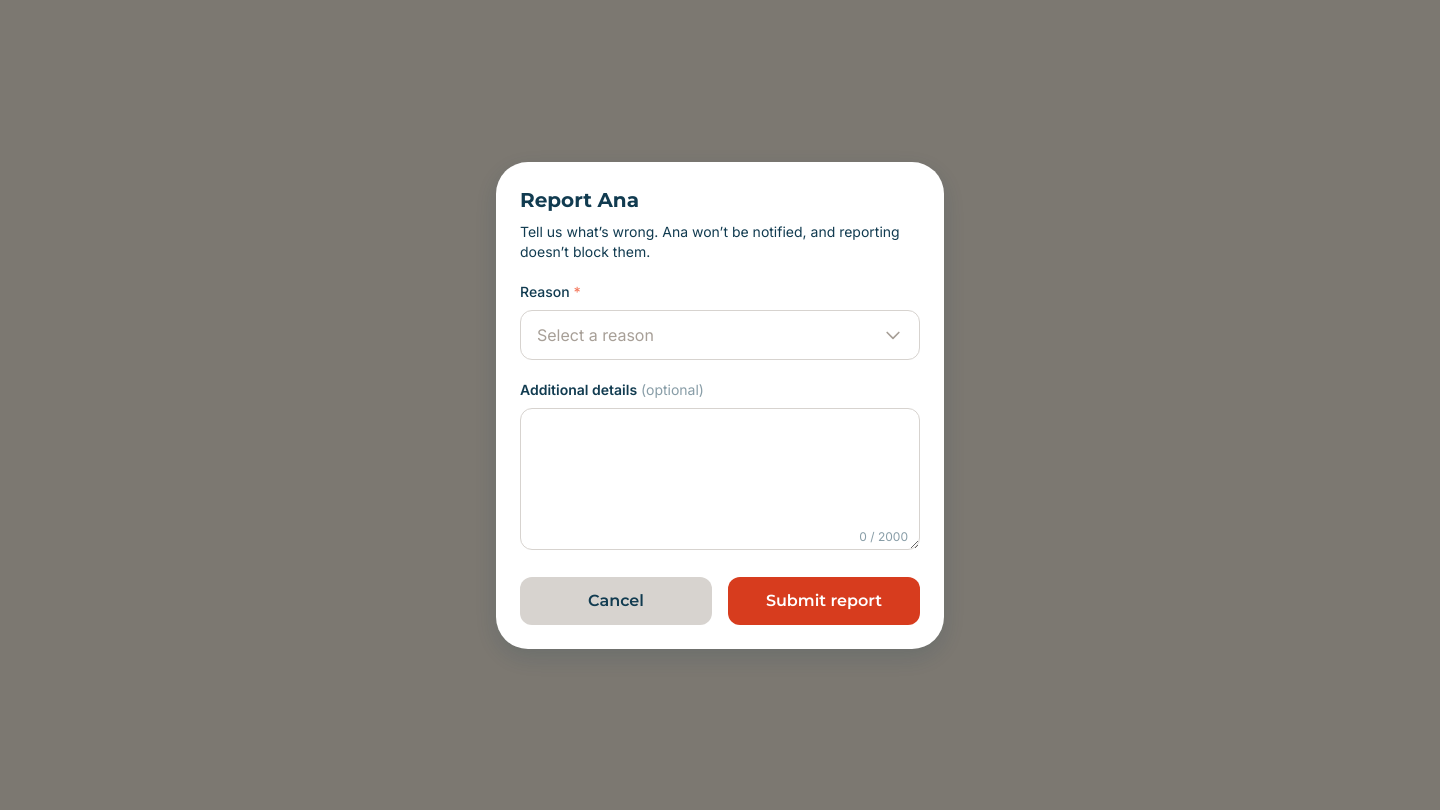
it: ReportUserModal › requires a reason before submitting
The image size is (1440, 810).
Click the button "Submit report" at point(824, 600), box [728,576,920,624]
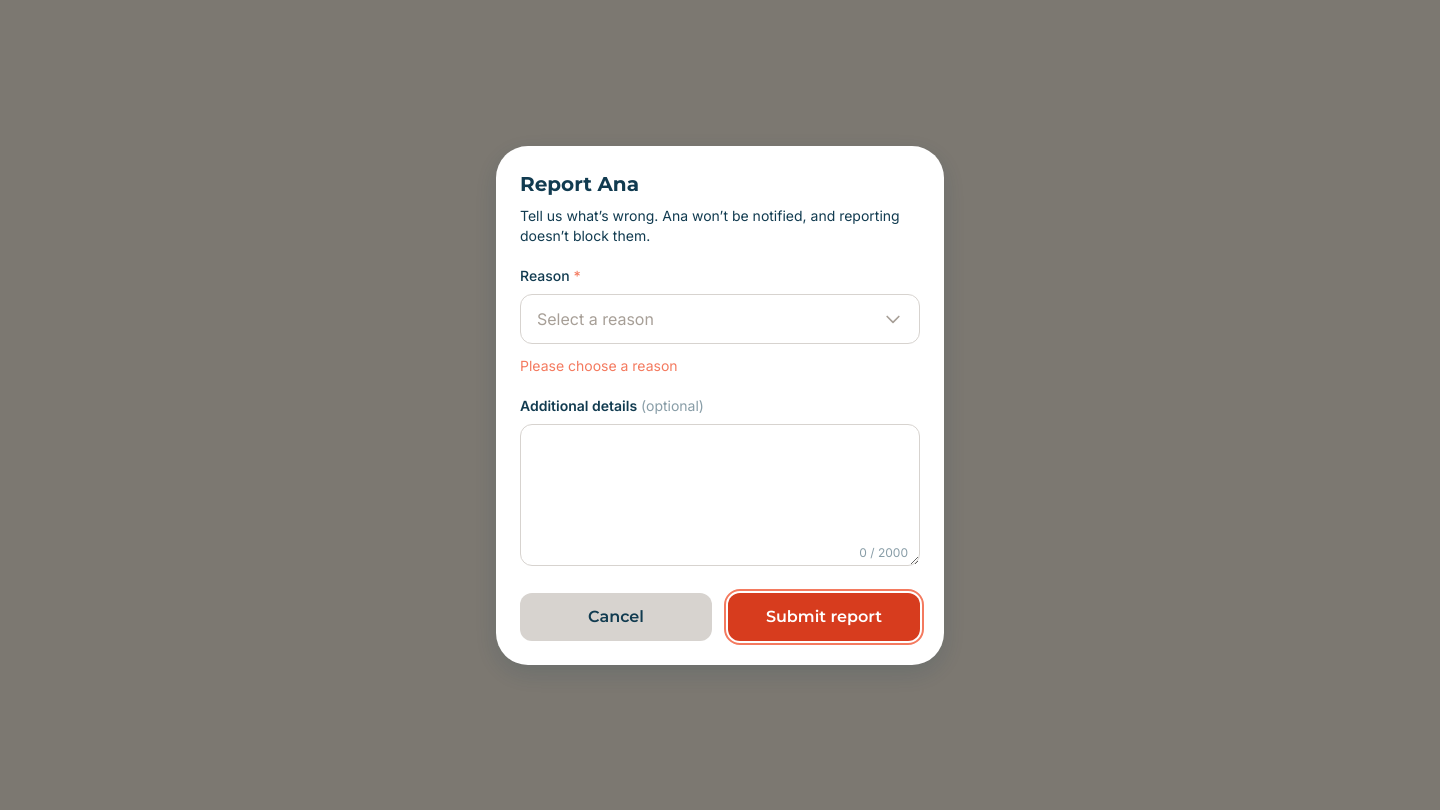
expect the text "Please choose a reason" is shown: met, box [520,356,678,374]
